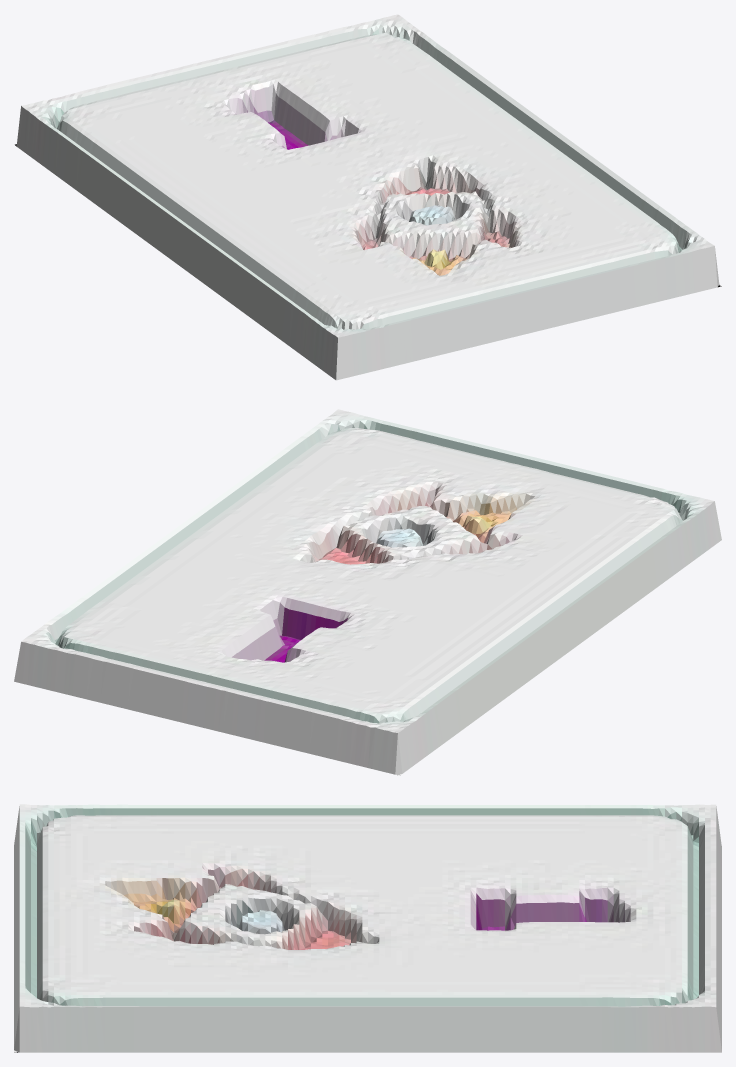
3 views of the same model, one above another, from view 1: azimuth 30°, elevation 25°; view 2: azimuth 150°, elevation 25°; view 3: azimuth 270°, elevation 25° (orthographic). The views are drawn at different scales.
Parts seen in each view (by area): view 1: imagetostl_mesh0; view 2: imagetostl_mesh0; view 3: imagetostl_mesh0.
Part boxes in pixels (x1,y1,x2,y2): imagetostl_mesh0: (14,14,720,380); imagetostl_mesh0: (14,409,721,775); imagetostl_mesh0: (14,804,721,1052).
Bounding box in the file's own units: 2570 × 254 × 3716.
